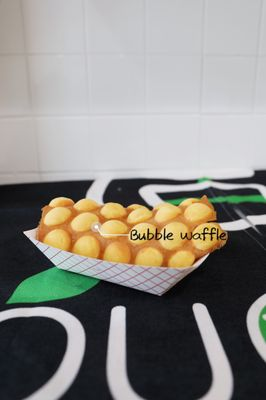pizza: (0, 306, 87, 400)
